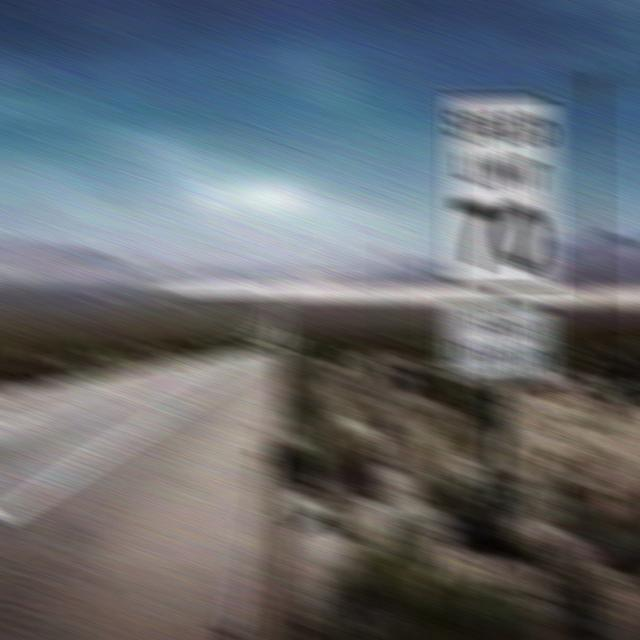speedLimit70: (443, 90, 555, 297)
